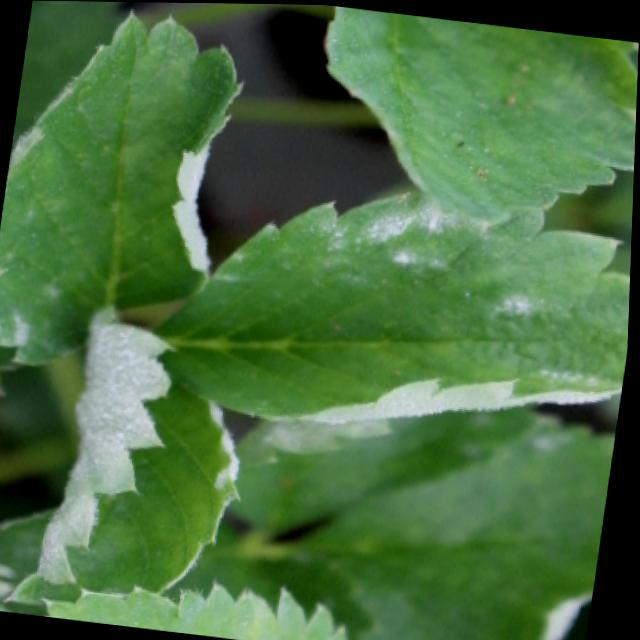Powdery Mildew Leaf: (158, 183, 632, 425), (0, 10, 245, 368), (294, 405, 619, 640), (6, 318, 246, 608)
